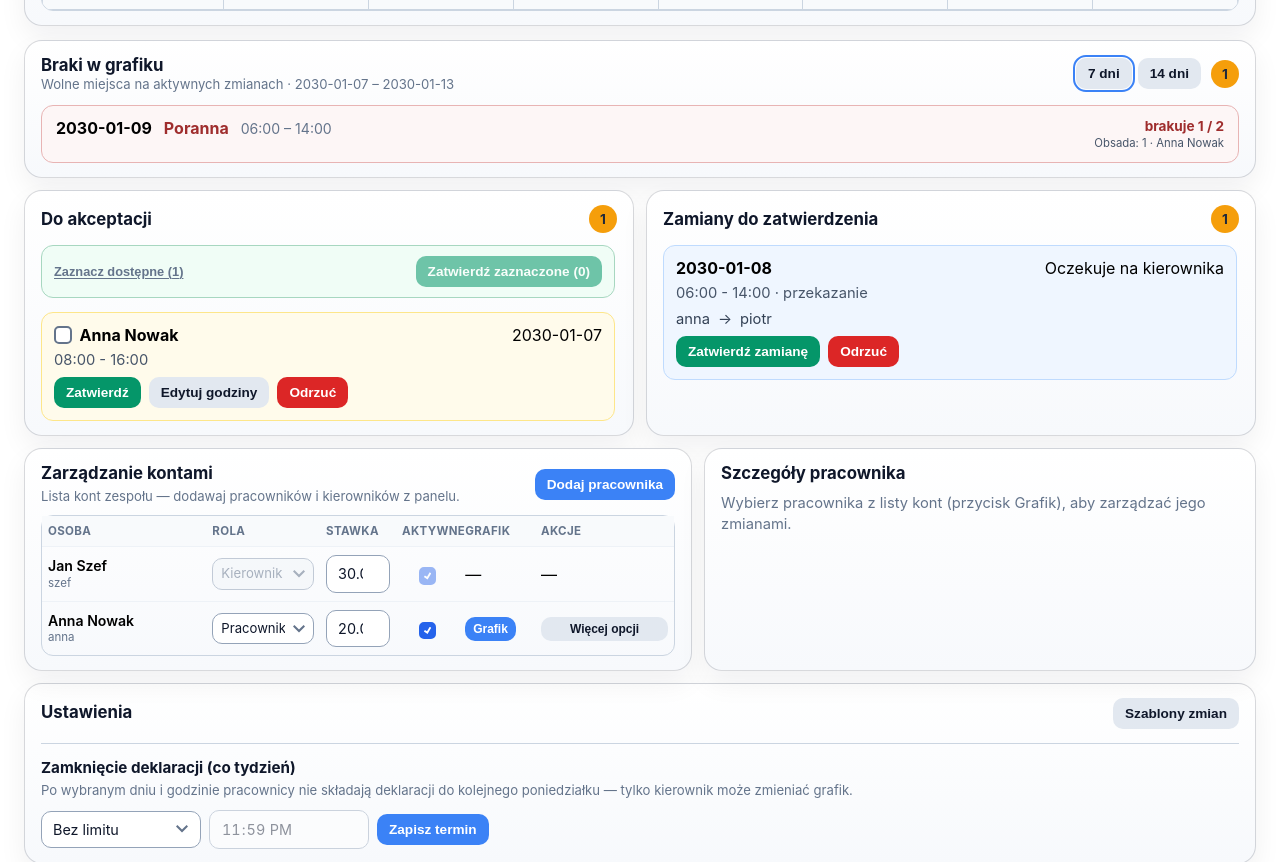
Test case: deactivating an account after confirmation
(page scrolled)
Expected: the text "Anna Nowak" below "Do akceptacji" is shown, [80, 325, 178, 345]
Click the button "Więcej opcji". click: (605, 628)
box: [541, 616, 668, 640]
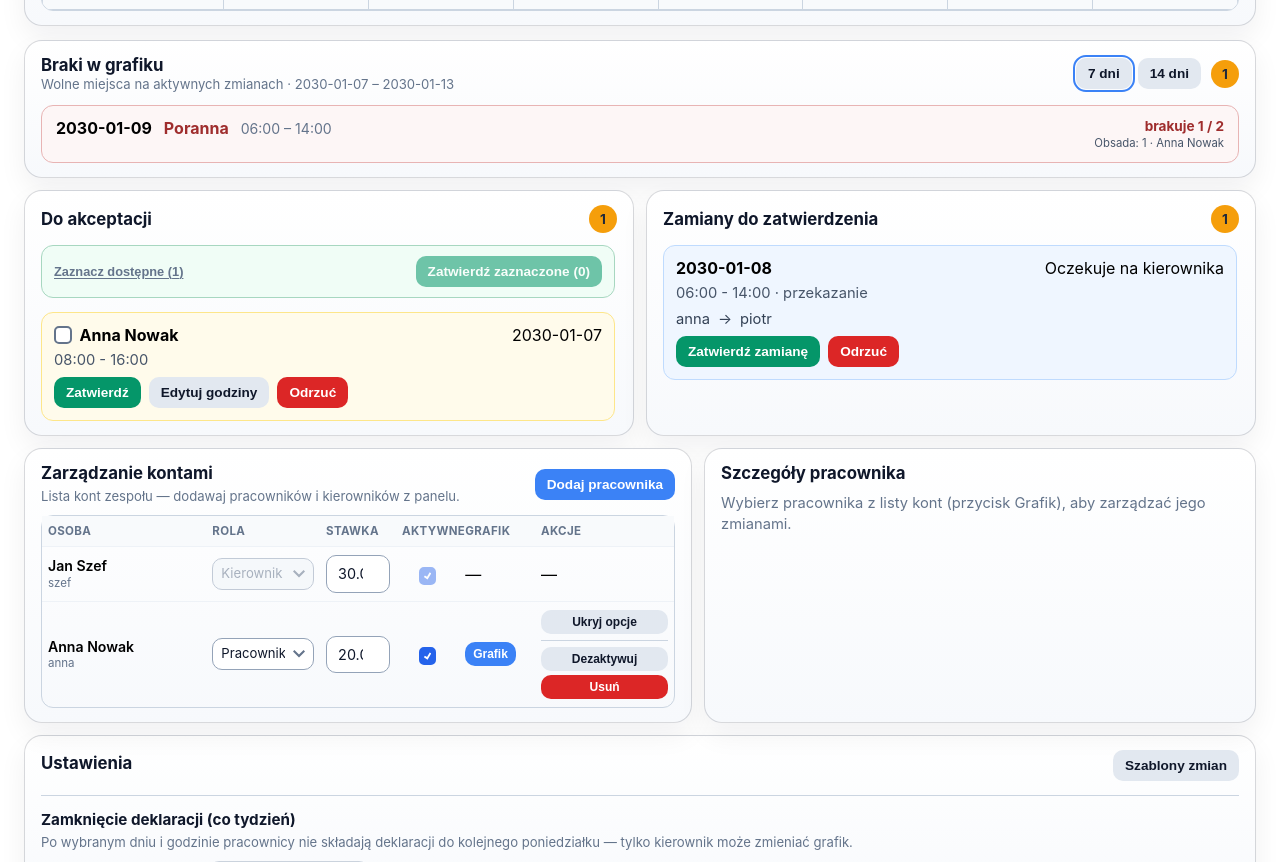
Click the button "Dezaktywuj". click: (605, 659)
box: [541, 647, 668, 671]
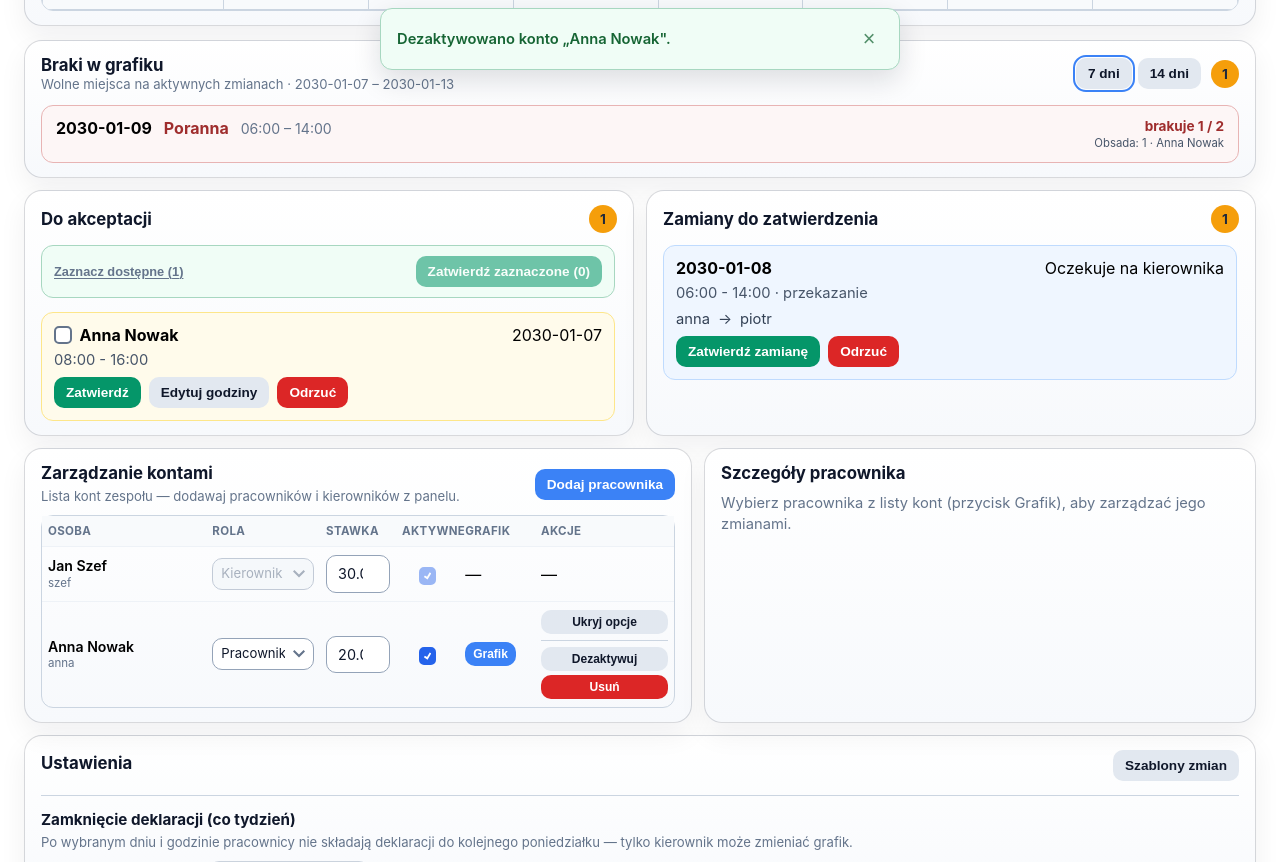
Result: the text "Dezaktywowano konto „Anna Nowak\"." is shown at [397, 30, 671, 48]
